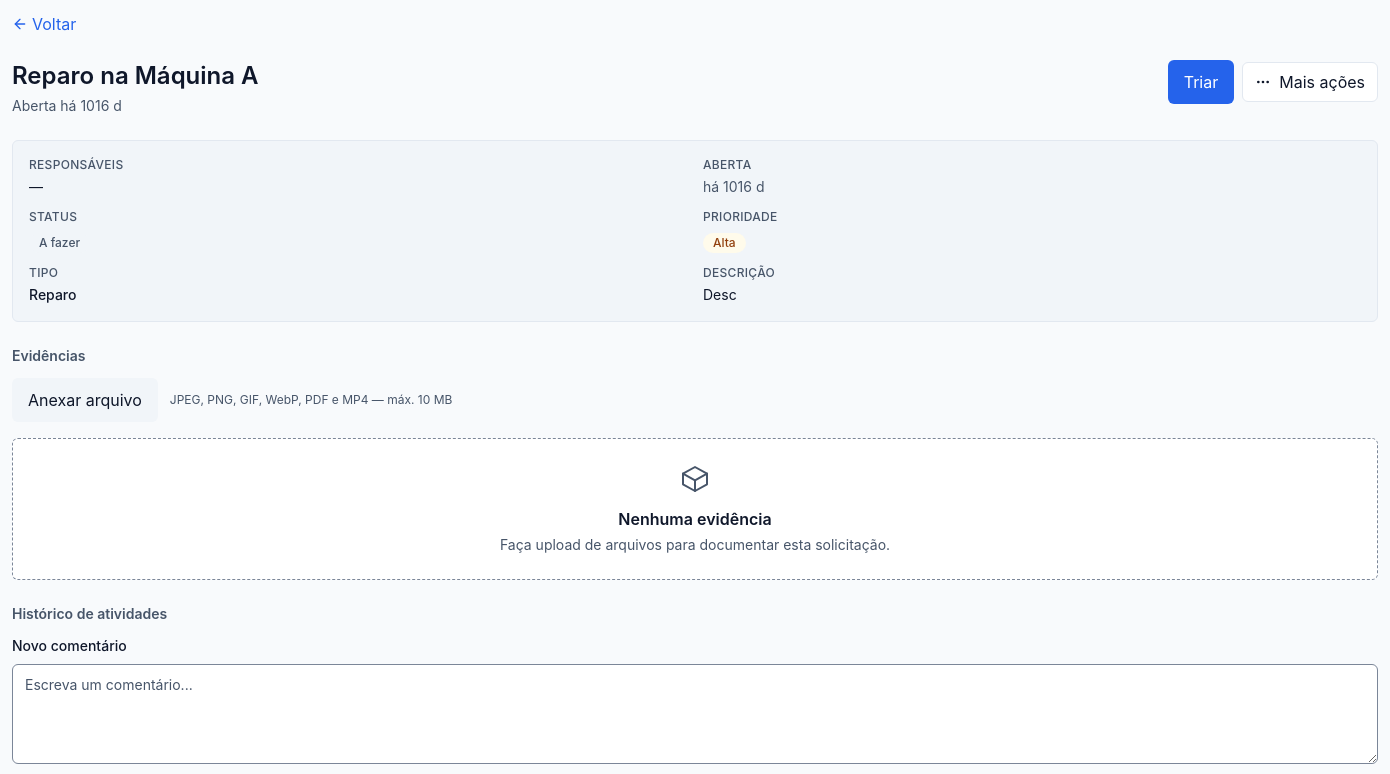
Test case: SolicitacaoDetalhePage › deve abrir a edição quando Editar é escolhido em Mais ações
The width and height of the screenshot is (1390, 774).
Click the button "Mais ações" at (1310, 82), box [1242, 62, 1378, 102]
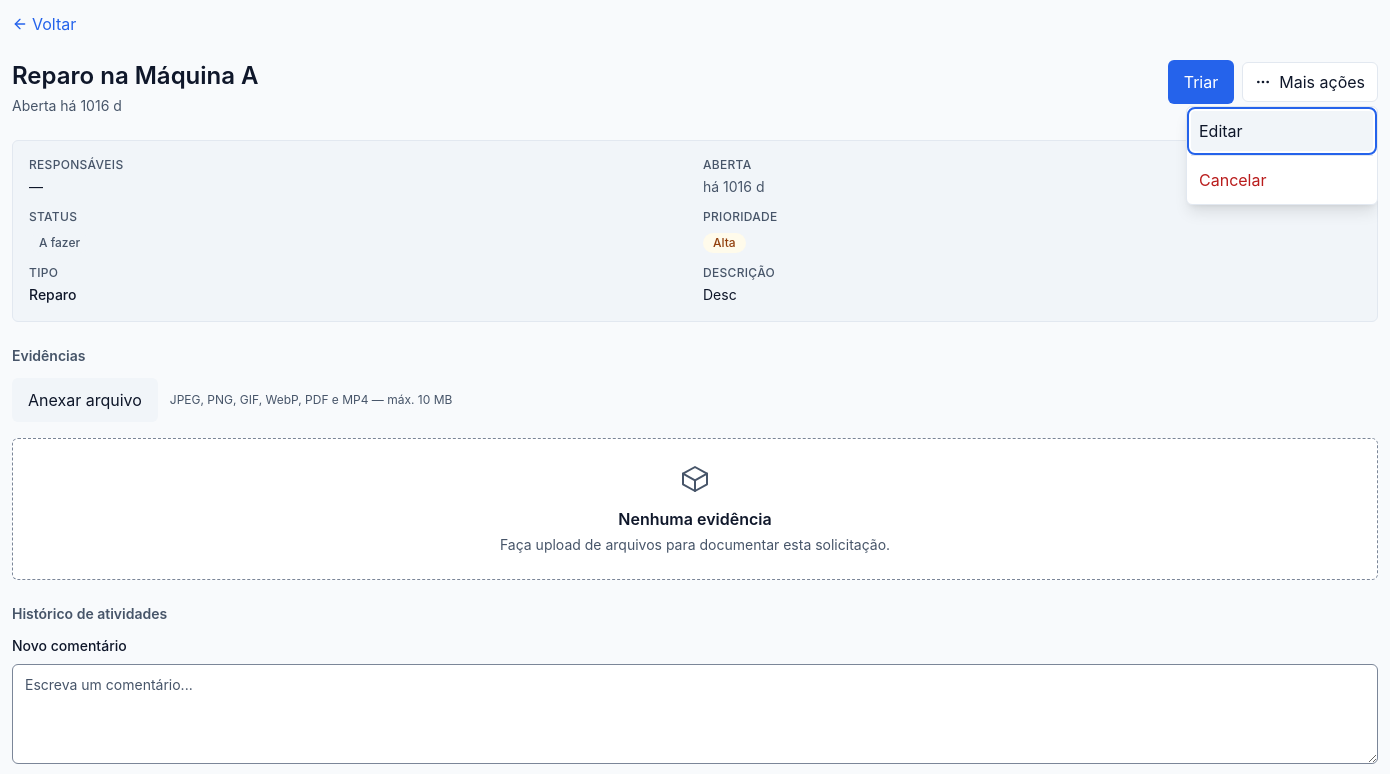
Click the menu item "Editar" at (1282, 131), box [1191, 111, 1373, 151]
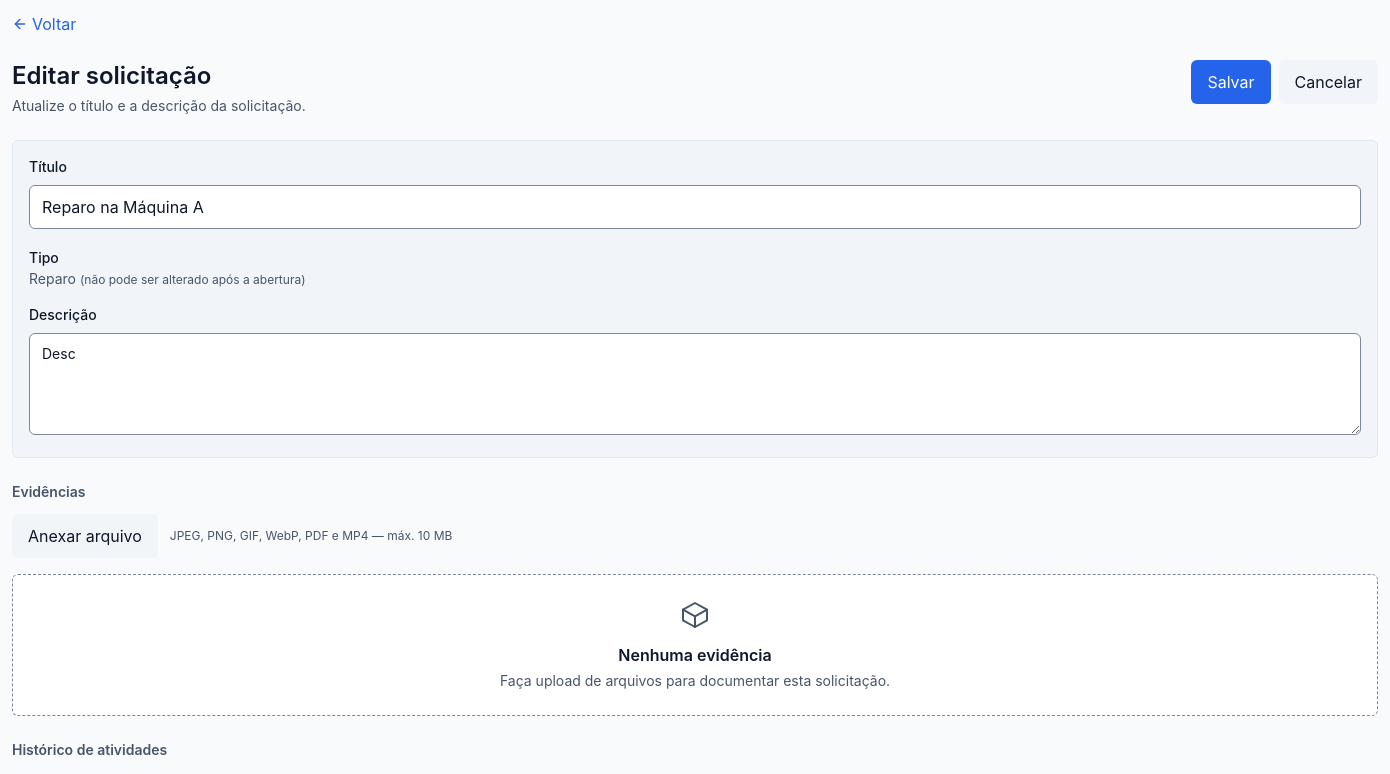
Now the field labelled "Título" is shown, box [29, 185, 1361, 229]
Now the button "Mais ações" is gone
